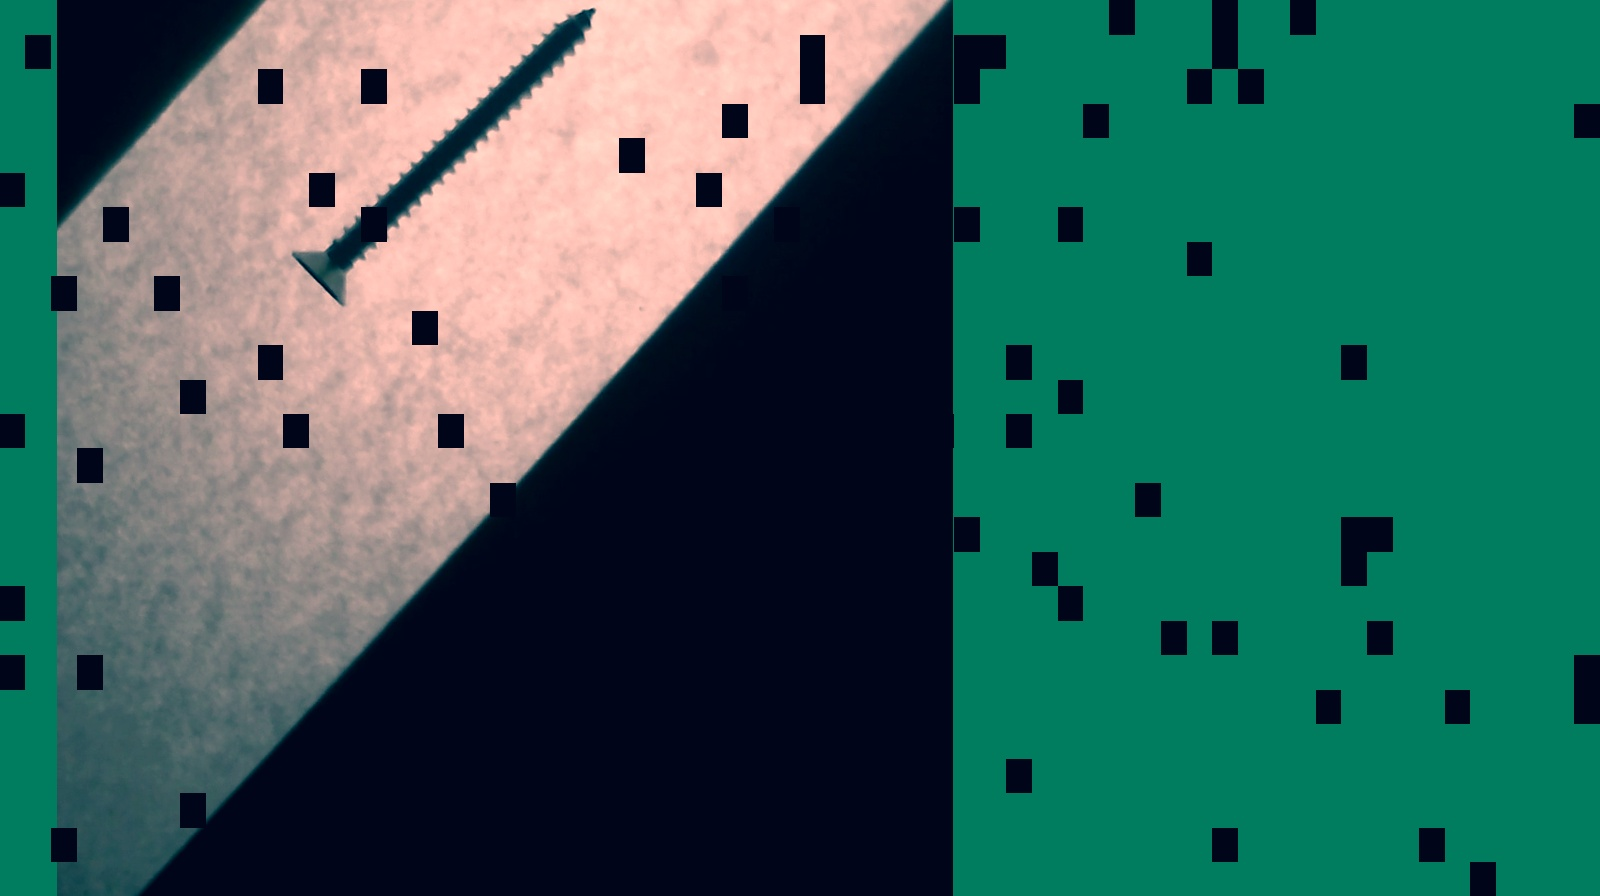S002: (266, 0, 623, 339)
